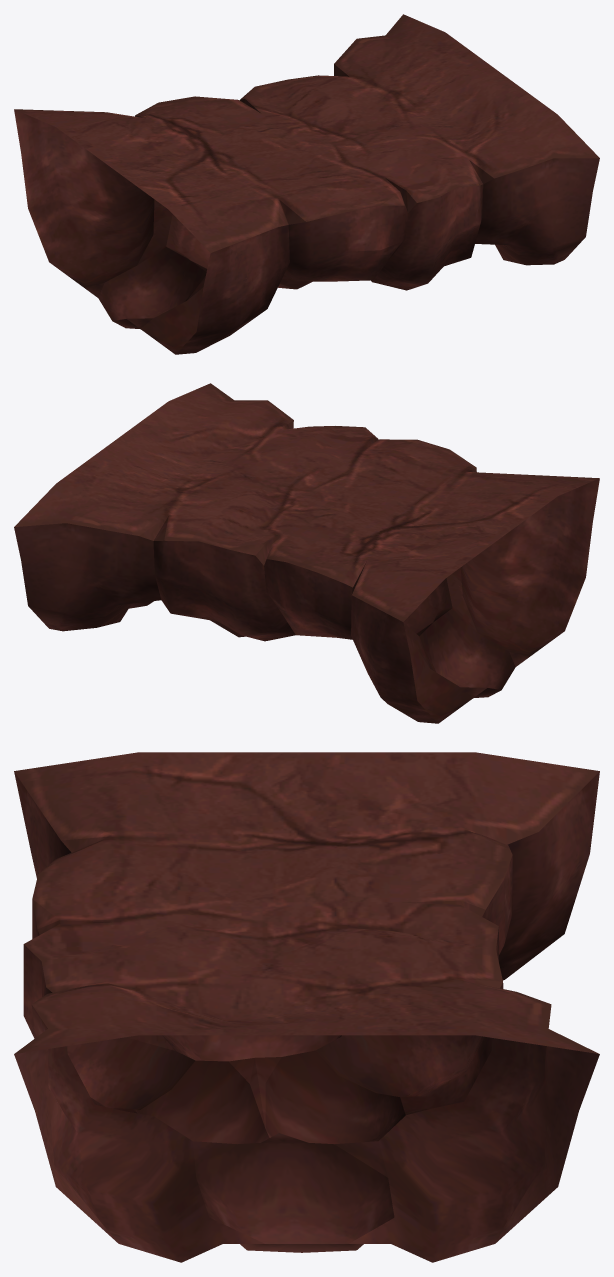
The model's file is lava_bridge_straight_01.fbx.
The picture shows the model from 3 angles, top to bottom: view 1: azimuth 30°, elevation 25°; view 2: azimuth 150°, elevation 25°; view 3: azimuth 270°, elevation 25°; orthographic projection. The views are drawn at different scales.
Visible parts, largest first — view 1: lava_tileset/bridge_mat_shadow; view 2: lava_tileset/bridge_mat_shadow; view 3: lava_tileset/bridge_mat_shadow.
Part boxes in pixels (x1=…): lava_tileset/bridge_mat_shadow: x1=14, y1=14, x2=599, y2=354; lava_tileset/bridge_mat_shadow: x1=14, y1=383, x2=599, y2=723; lava_tileset/bridge_mat_shadow: x1=14, y1=752, x2=599, y2=1262.
Bounding box in the file's own units: 4 × 1.6 × 3.5.
